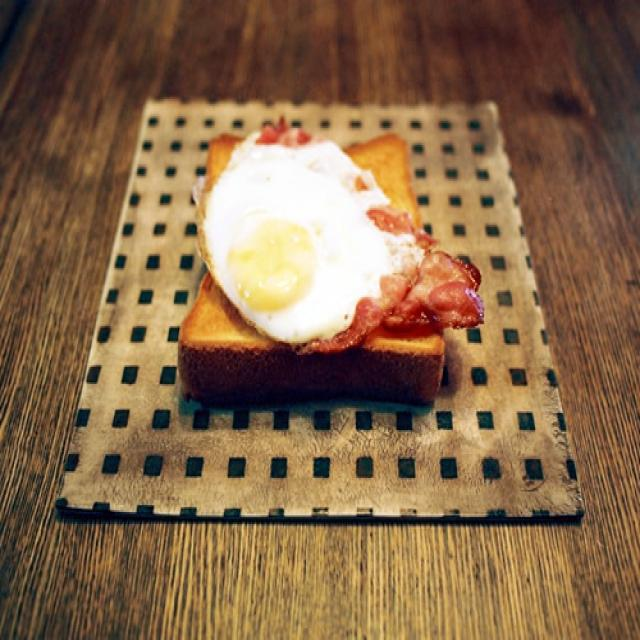鸡蛋料理: (183, 130, 452, 343)
